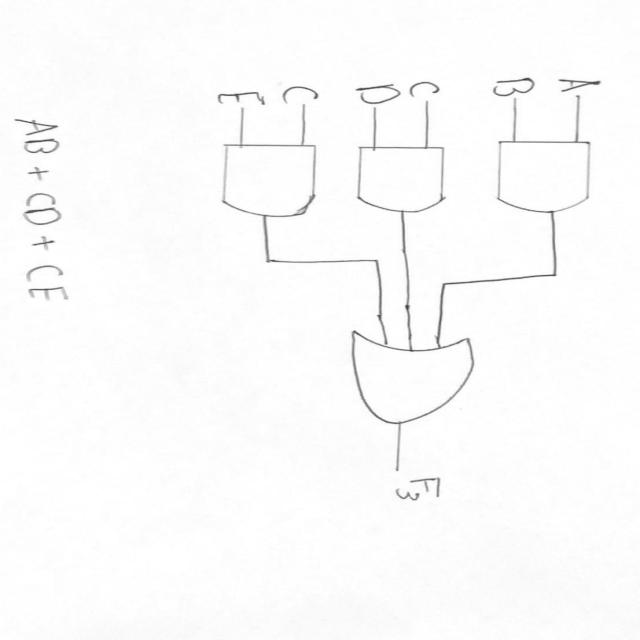AND: (206, 135, 334, 225), (348, 139, 470, 214), (492, 136, 606, 215)
OR: (312, 322, 500, 426)
